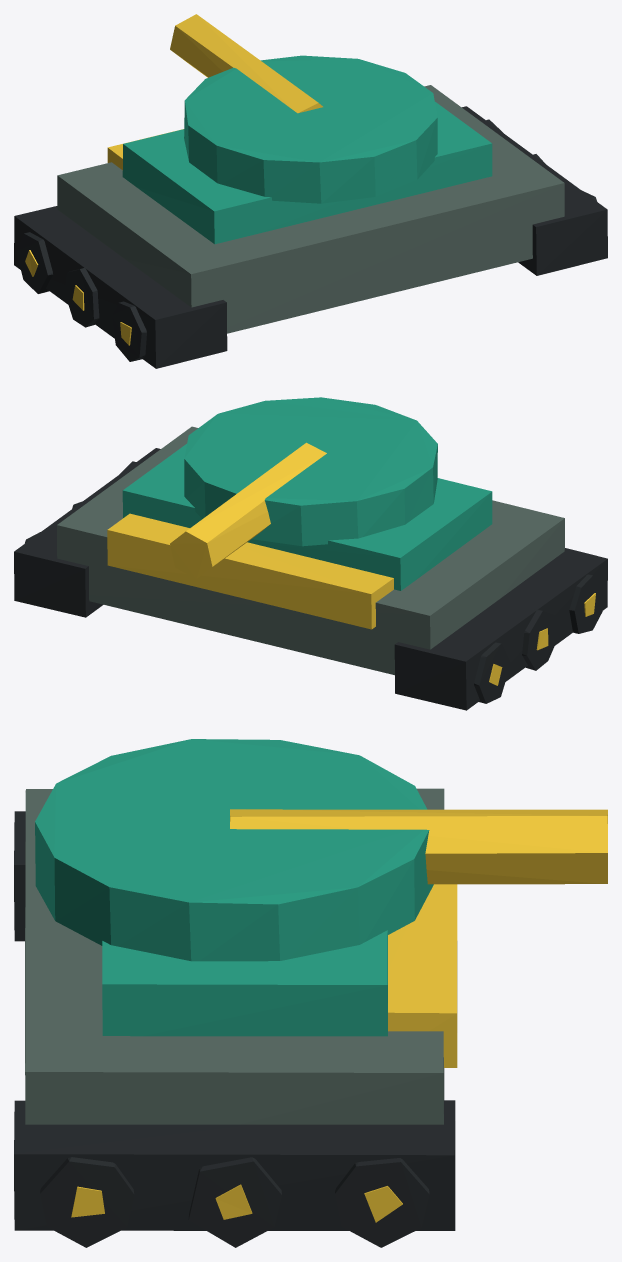
File: SM_Coalition_CO_QinglongMBT_LOD3.fbx
The picture shows the model from 3 angles, top to bottom: view 1: azimuth 30°, elevation 25°; view 2: azimuth 150°, elevation 25°; view 3: azimuth 270°, elevation 25°; orthographic projection. The views are drawn at different scales.
Parts seen in each view (by area): view 1: LOD03_SM_Coalition_CO_QinglongMBT; view 2: LOD03_SM_Coalition_CO_QinglongMBT; view 3: LOD03_SM_Coalition_CO_QinglongMBT.
Boxes of the visible parts, left/top/right/bottom form: LOD03_SM_Coalition_CO_QinglongMBT: left=14, top=14, right=607, bottom=368; LOD03_SM_Coalition_CO_QinglongMBT: left=14, top=397, right=607, bottom=710; LOD03_SM_Coalition_CO_QinglongMBT: left=14, top=739, right=607, bottom=1247.
Size of the model in its own units: 524 by 372 by 180.
